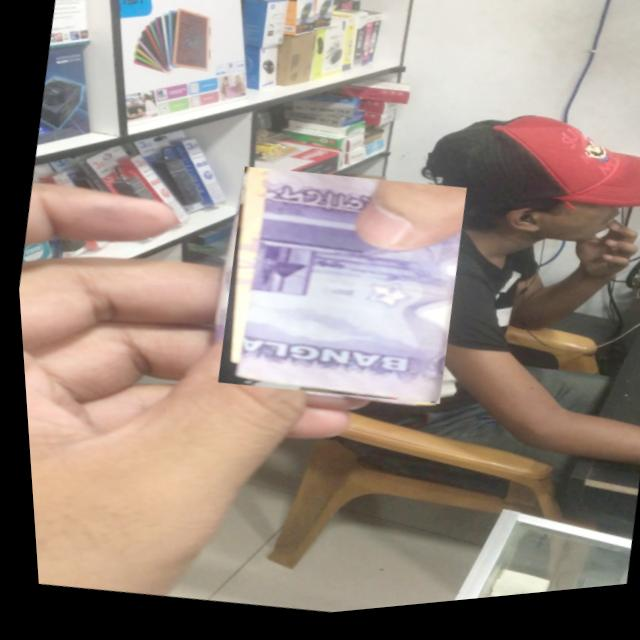Taka: (201, 154, 475, 429)
